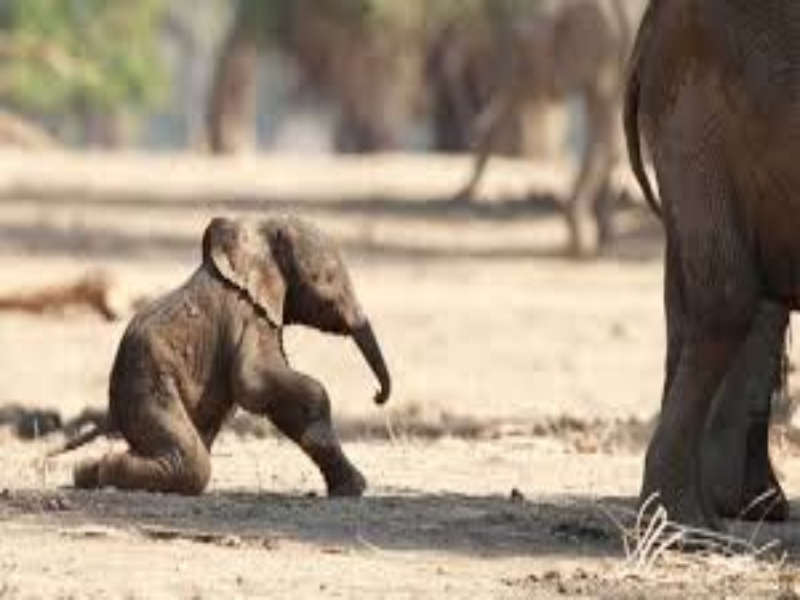elephant: (97, 167, 389, 505)
